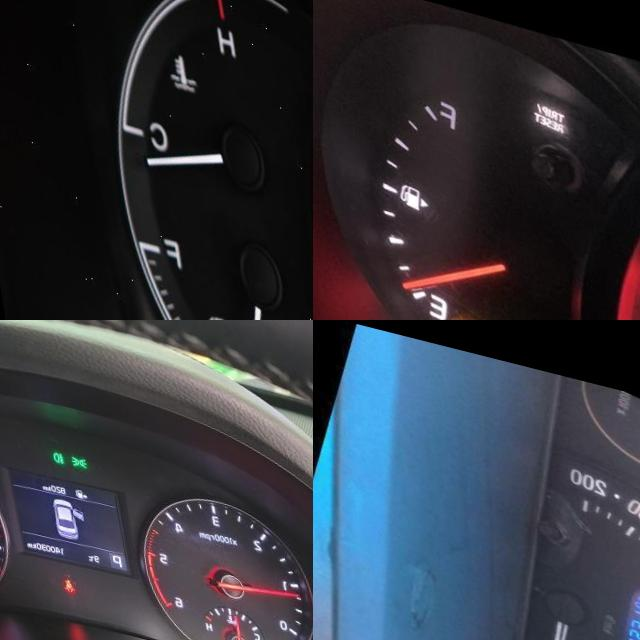FrontFogLight: (44, 433, 57, 448)
Low fuel level: (444, 303, 469, 320)
SideLamp: (62, 437, 80, 451)
